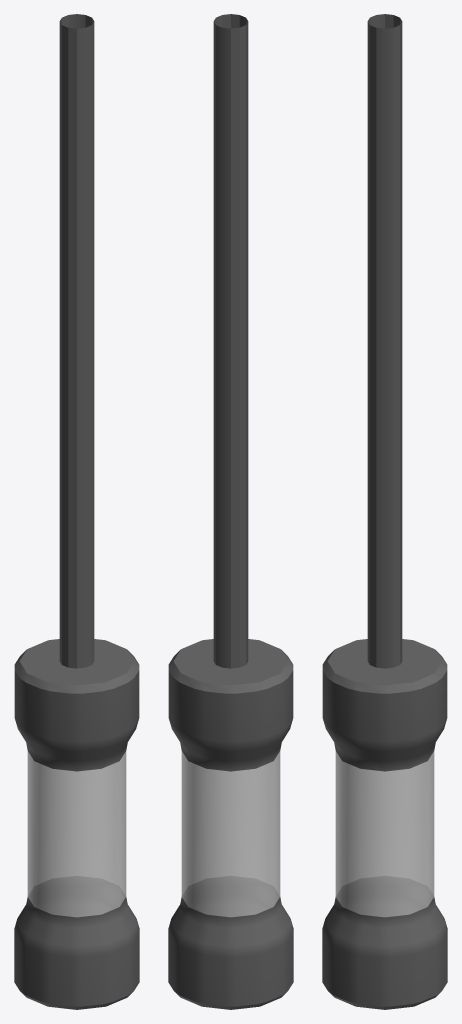
Rendered from Lights.fbx.
3 views of the same model, side by side, from view 1: azimuth 90°, elevation 25°; view 2: azimuth 150°, elevation 25°; view 3: azimuth 270°, elevation 25° (orthographic).
Visible parts, largest first — view 1: Lights:pCylinder1; view 2: Lights:pCylinder1; view 3: Lights:pCylinder1.
Part boxes in pixels (x1,y1,x2,y2): Lights:pCylinder1: [14, 14, 139, 1009]; Lights:pCylinder1: [168, 14, 293, 1009]; Lights:pCylinder1: [322, 14, 447, 1009].
Size of the model in its own units: 1.44 by 12.25 by 1.44.
Materials: 2 (1 with a texture image).
